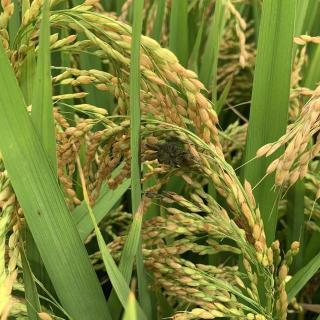Gosong-Palsu: (154, 140, 187, 170)
